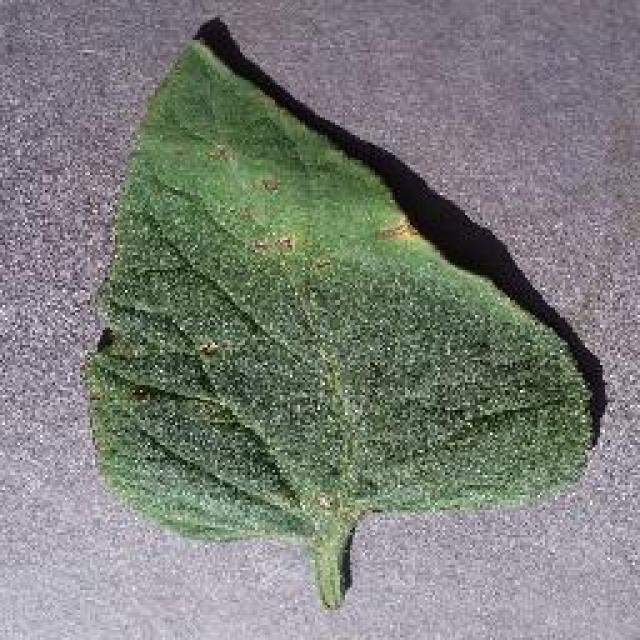Tomato___Target_Spot: (88, 40, 588, 602)
